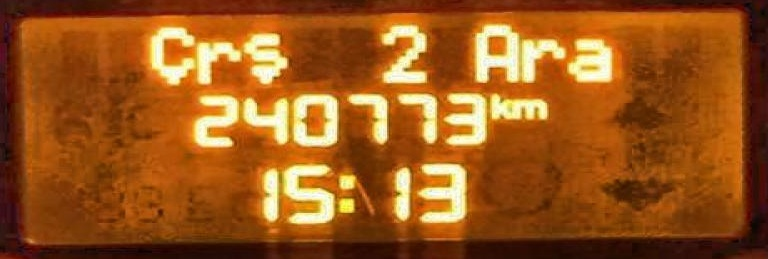0: (290, 91, 338, 146)
1: (258, 164, 277, 225), (391, 163, 410, 222)
2: (380, 23, 426, 84), (191, 93, 235, 147)
3: (416, 160, 465, 223), (441, 89, 485, 144)
4: (240, 94, 288, 143)
5: (282, 160, 333, 224)
7: (347, 90, 392, 144), (393, 90, 437, 141)
X: (473, 20, 518, 81), (148, 24, 190, 84), (243, 30, 288, 84), (518, 35, 565, 82), (565, 35, 611, 81), (195, 38, 238, 84), (337, 169, 358, 215), (512, 94, 547, 120), (490, 90, 510, 120)
